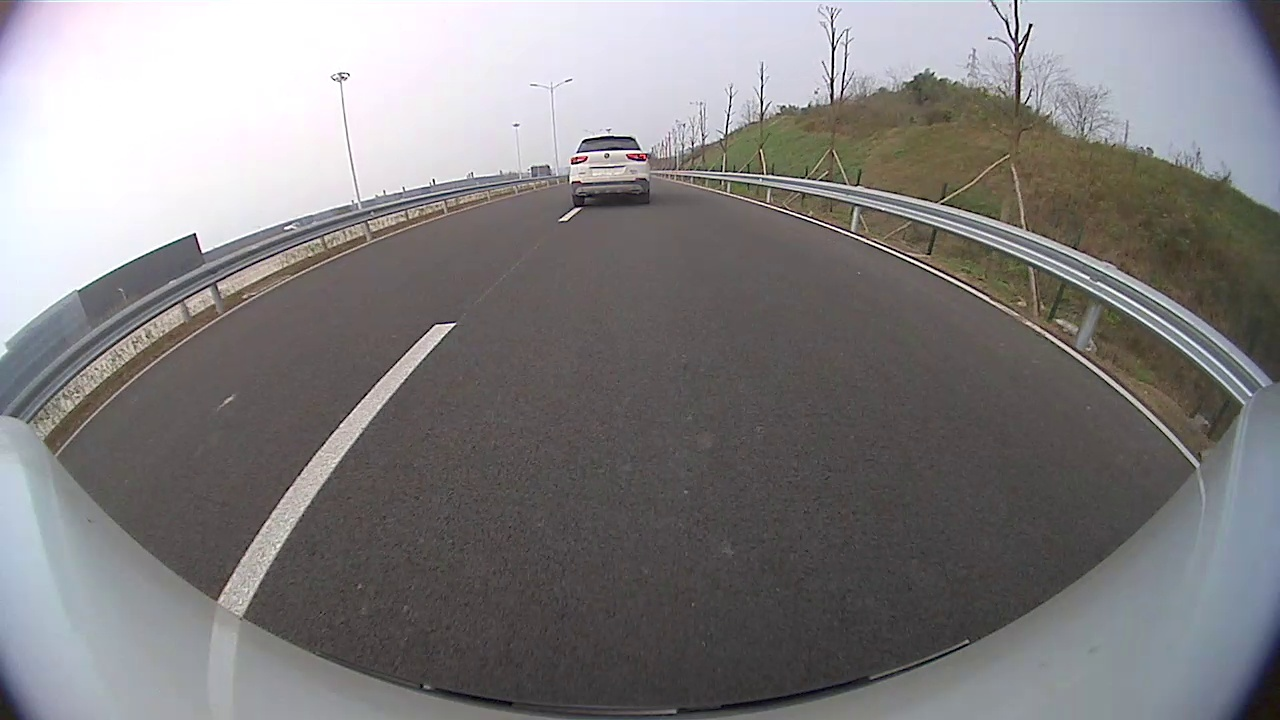car: (569, 134, 653, 211)
